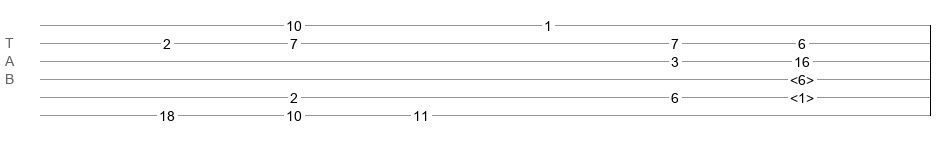1: (544, 18, 552, 28)
10: (286, 108, 302, 118), (286, 18, 302, 28)
11: (413, 108, 429, 118)
16: (794, 54, 810, 64)
18: (159, 108, 175, 118)
2: (163, 36, 171, 46), (290, 90, 298, 100)
3: (671, 54, 679, 64)
6: (671, 90, 679, 100), (798, 36, 806, 46)
7: (290, 36, 298, 46), (671, 36, 679, 46)
harmonic: (790, 90, 814, 100), (790, 72, 814, 82)
